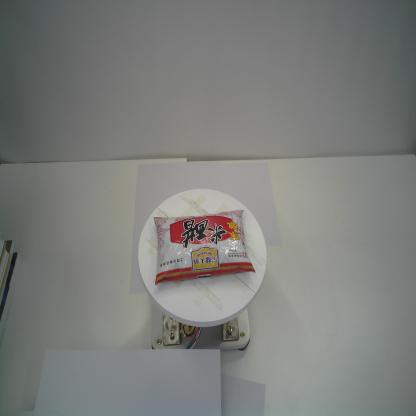Seasoner: (152, 209, 256, 287)
